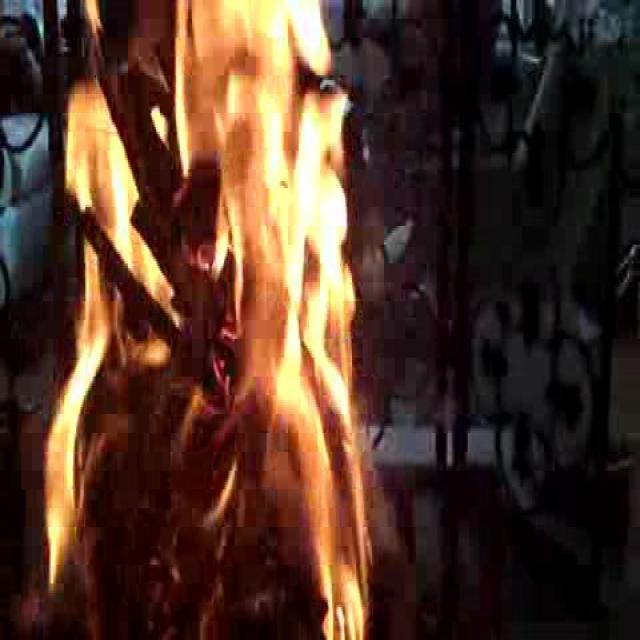Fire: (48, 0, 371, 640)
